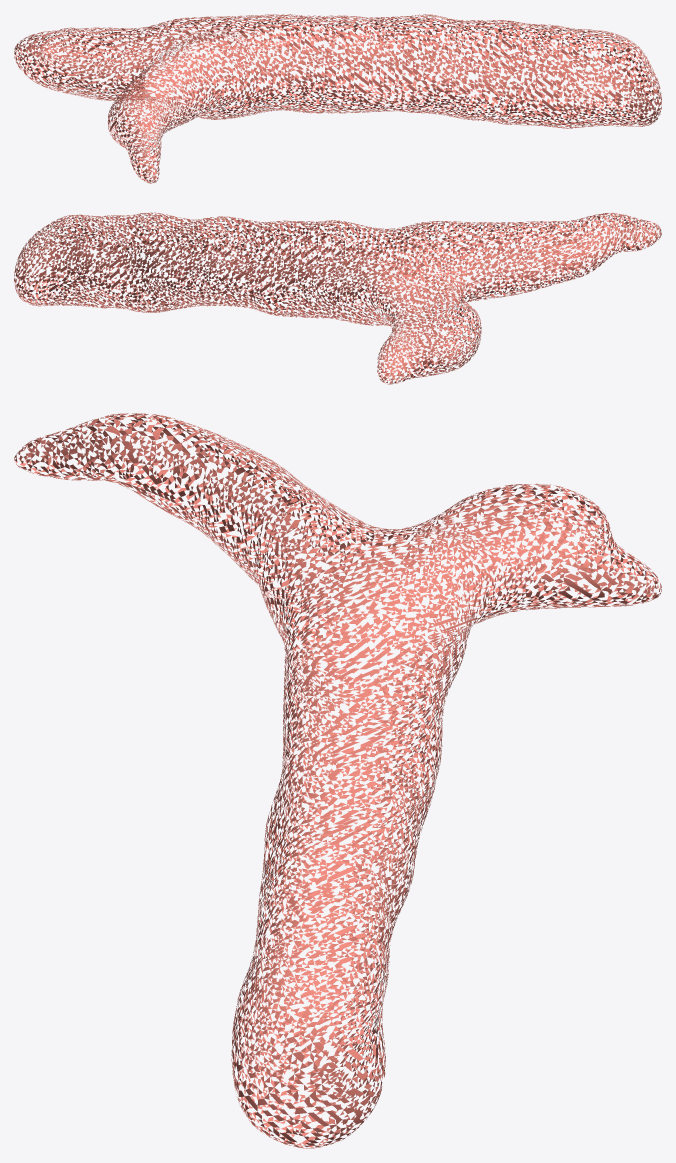
File: diseased.glb
3 renders of one model, top to bottom at view 1: azimuth 30°, elevation 25°; view 2: azimuth 150°, elevation 25°; view 3: azimuth 270°, elevation 25°, orthographic. The views are drawn at different scales.
Size of the model in its own units: 122 by 37.26 by 71.87.
